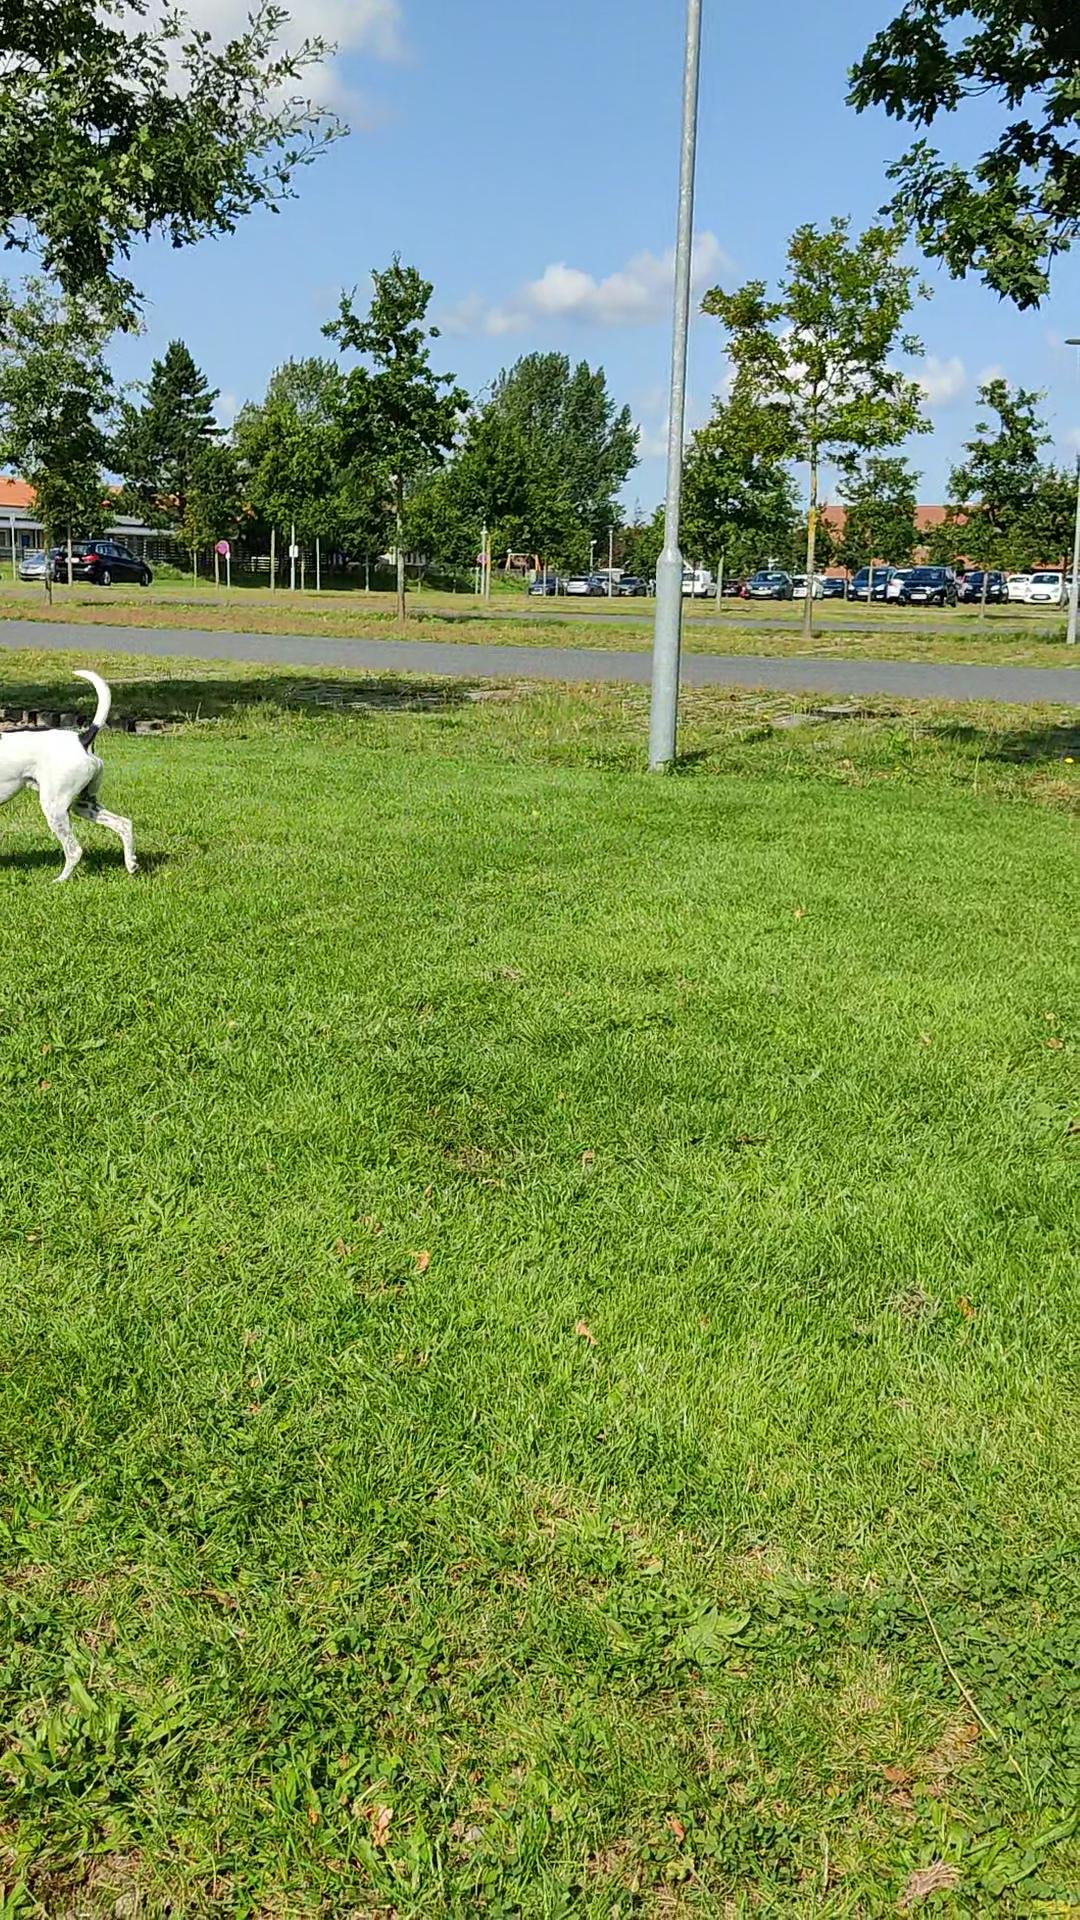Dog: (0, 662, 142, 889)
